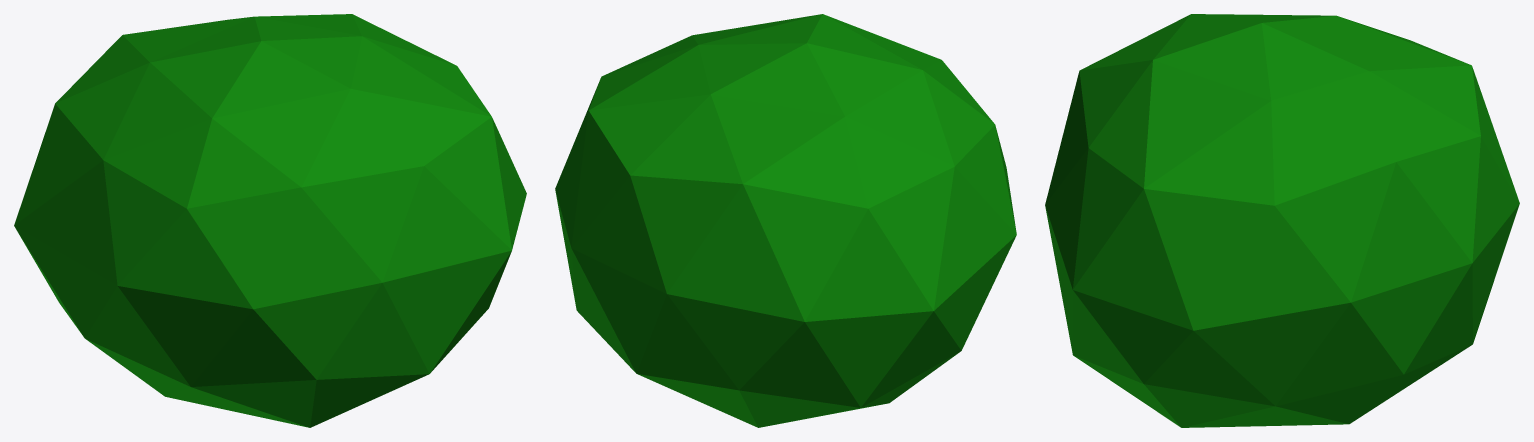
File: Buisson1.fbx
3 views of the same model, side by side, from view 1: azimuth 30°, elevation 25°; view 2: azimuth 150°, elevation 25°; view 3: azimuth 270°, elevation 25° (orthographic). The views are drawn at different scales.
Parts seen in each view (by area): view 1: Buisson1; view 2: Buisson1; view 3: Buisson1.
Part boxes in pixels (box(x1,y1,x2,y2)): Buisson1: box(14, 14, 526, 427); Buisson1: box(555, 14, 1016, 427); Buisson1: box(1045, 14, 1519, 427).
Size of the model in its own units: 90.35 by 69.48 by 85.67.
